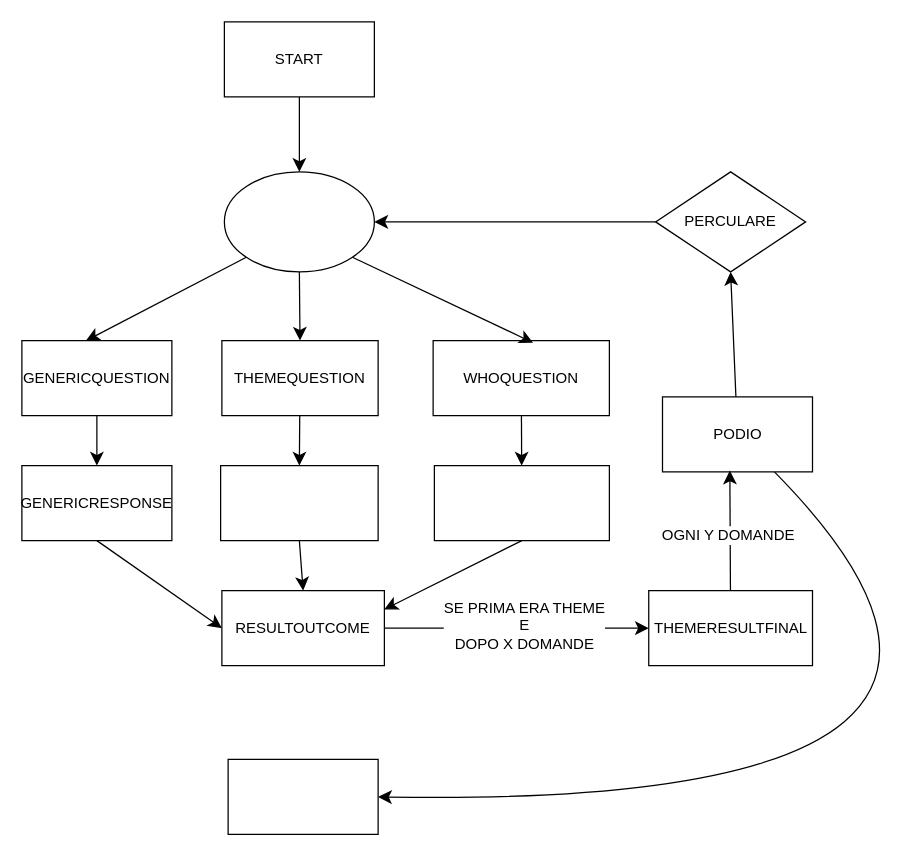
Image size: 903x856. Some labels were removed from this diagram. Each missing label, with the centre of its shape:
"FINE" belongs at pixel 302 796.
"NEXTQUESTION" belongs at pixel 298 221.
"THEMERESPONSE" belongs at pixel 298 502.
"WHORESPONSE" belongs at pixel 521 502.
